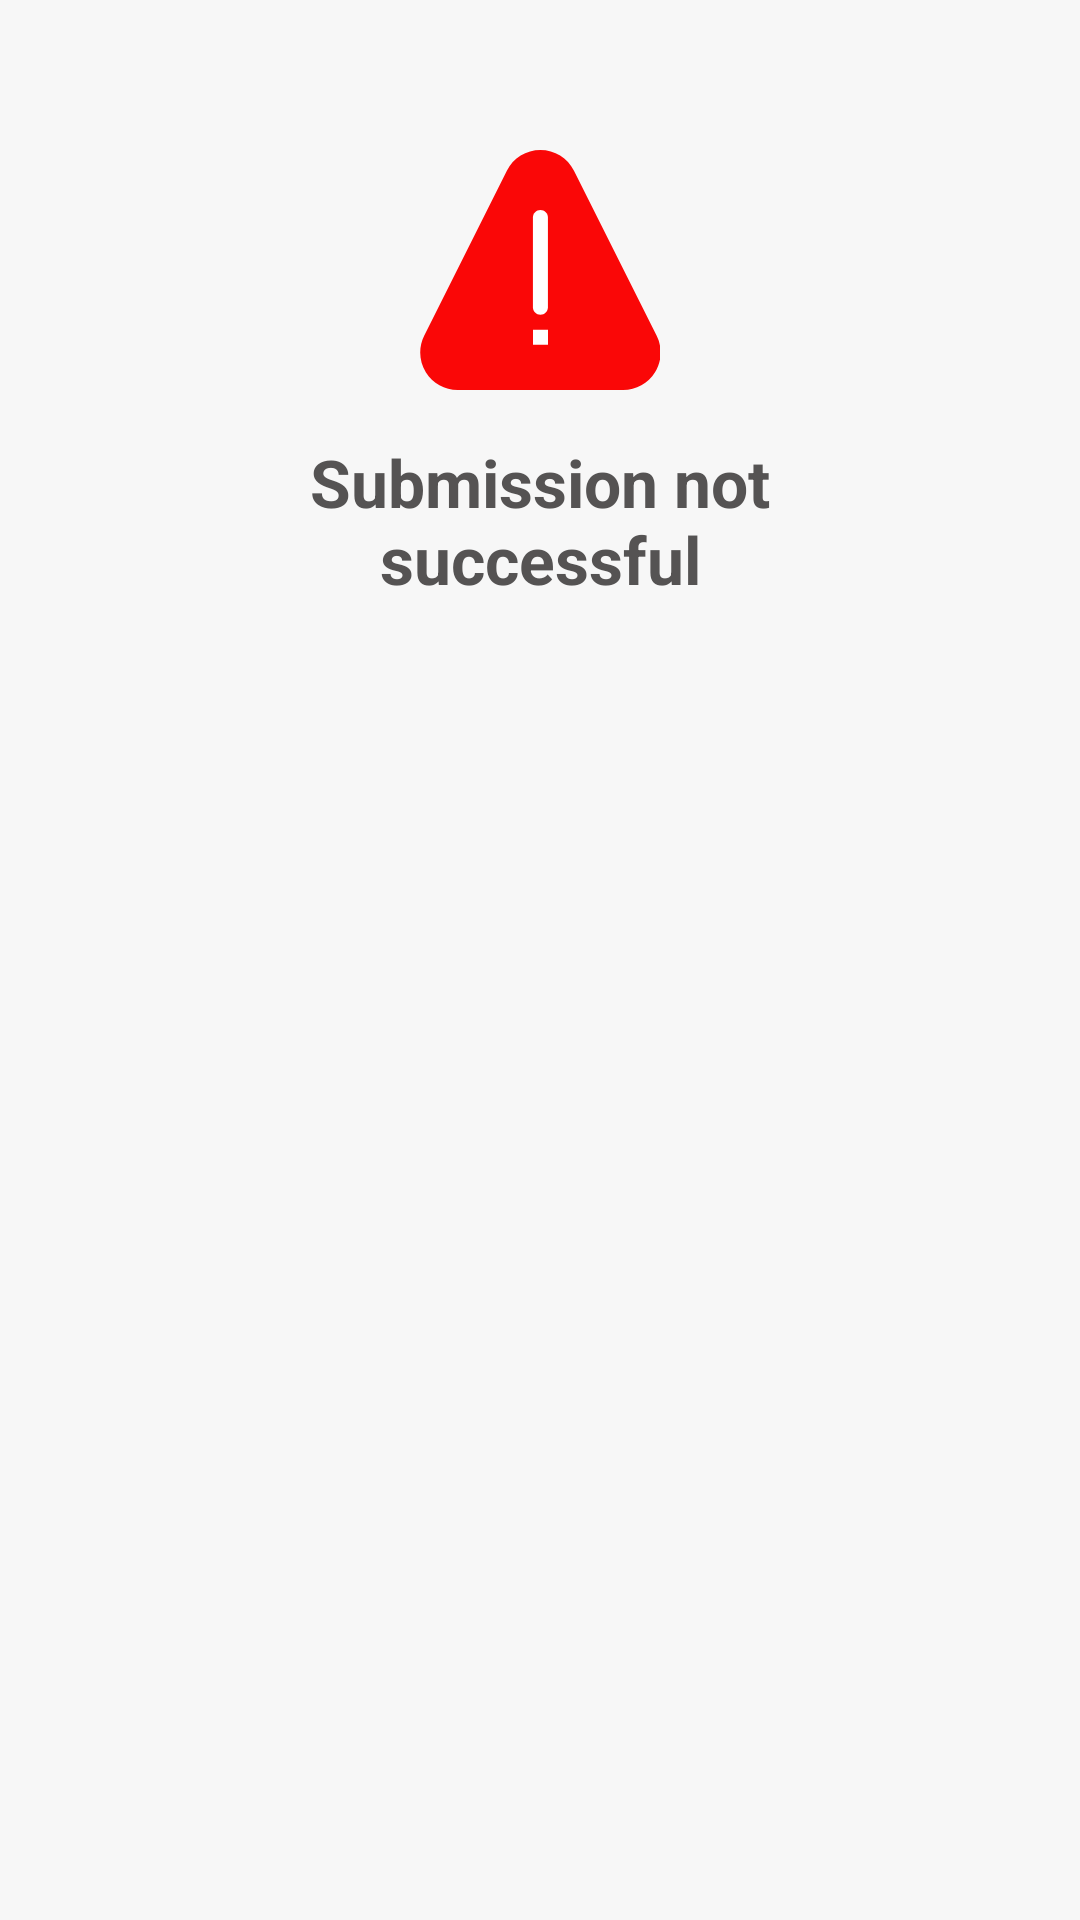

Screen size 1080×1920. Icon name, then its box in pixels as bbox=[x1, y1, x2, y2]:
caution: bbox=[420, 150, 660, 390]
